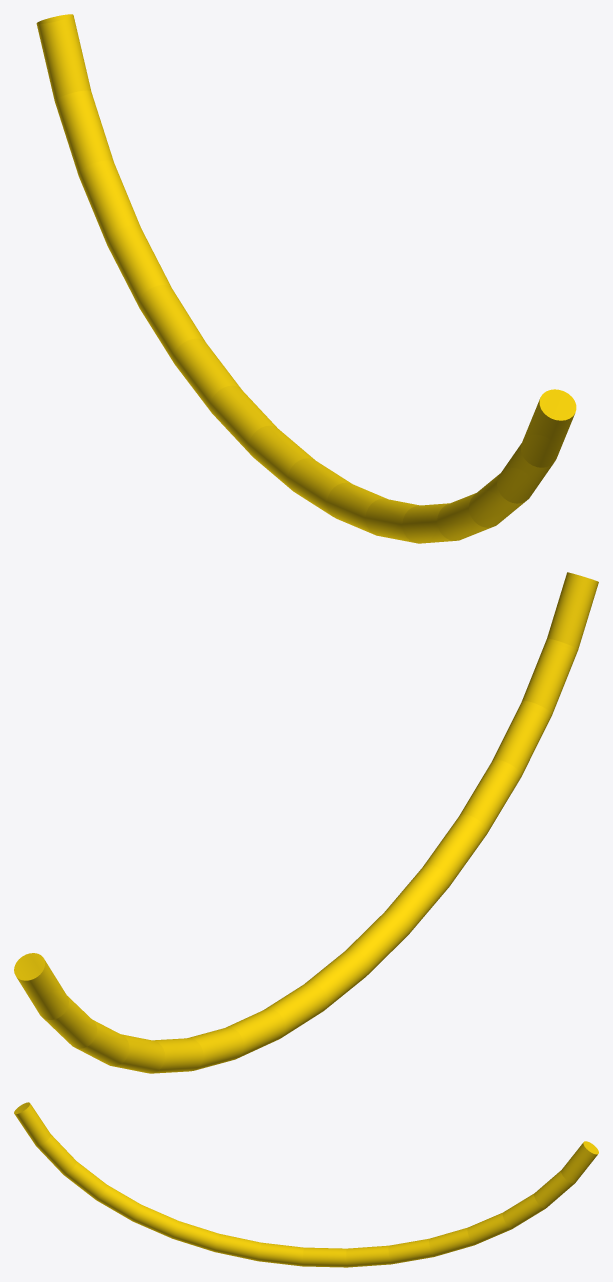
The model's file is Event_420094457_track_62.fbx.
3 views of the same model, one above another, from view 1: azimuth 30°, elevation 25°; view 2: azimuth 150°, elevation 25°; view 3: azimuth 270°, elevation 25° (orthographic). The views are drawn at different scales.
Parts seen in each view (by area): view 1: Model; view 2: Model; view 3: Model.
Part boxes in pixels (left/top/right/bottom): Model: left=36, top=14, right=576, bottom=543; Model: left=14, top=572, right=598, bottom=1073; Model: left=14, top=1102, right=598, bottom=1267.
Size of the model in its own units: 0.1198 by 0.3584 by 1.23.
